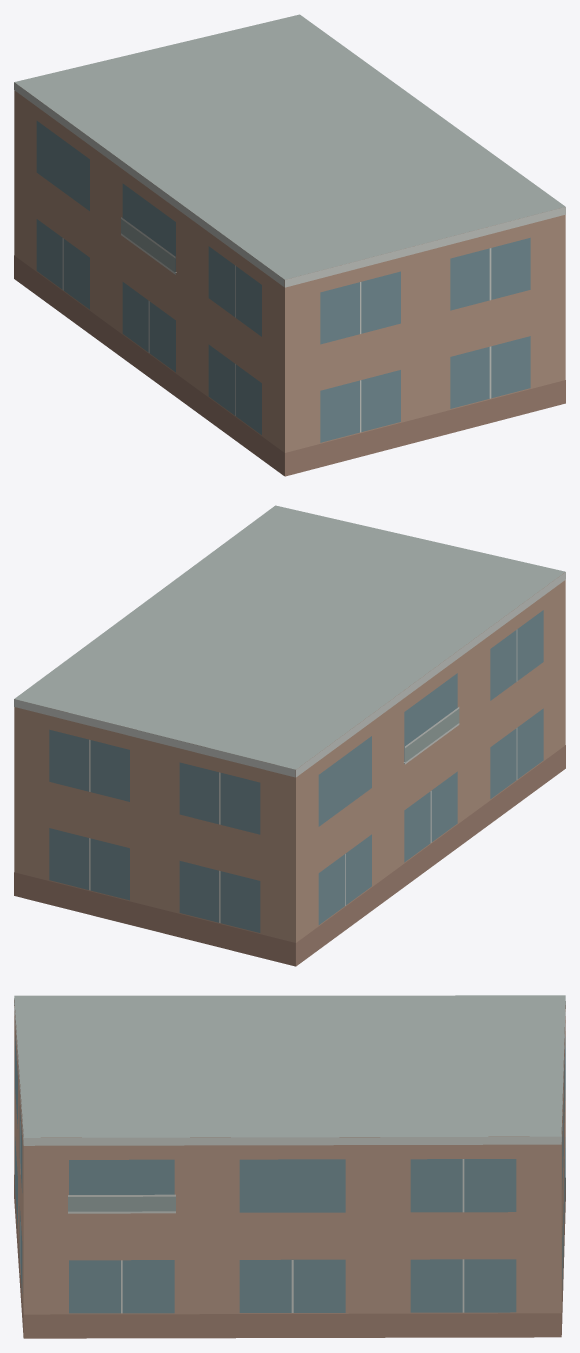
The model's file is survey-upis-32663999.glb.
3 views of the same model, one above another, from view 1: azimuth 30°, elevation 25°; view 2: azimuth 150°, elevation 25°; view 3: azimuth 270°, elevation 25° (orthographic). The views are drawn at different scales.
Visible parts, largest first — view 1: survey-upis-32663999.tmp; view 2: survey-upis-32663999.tmp; view 3: survey-upis-32663999.tmp.
Boxes of the visible parts, box(x1,y1,x2,y2) form: survey-upis-32663999.tmp: box(14, 14, 565, 476); survey-upis-32663999.tmp: box(14, 505, 565, 966); survey-upis-32663999.tmp: box(14, 995, 565, 1338).
Size of the model in its own units: 9.35 by 6.1 by 15.21.
